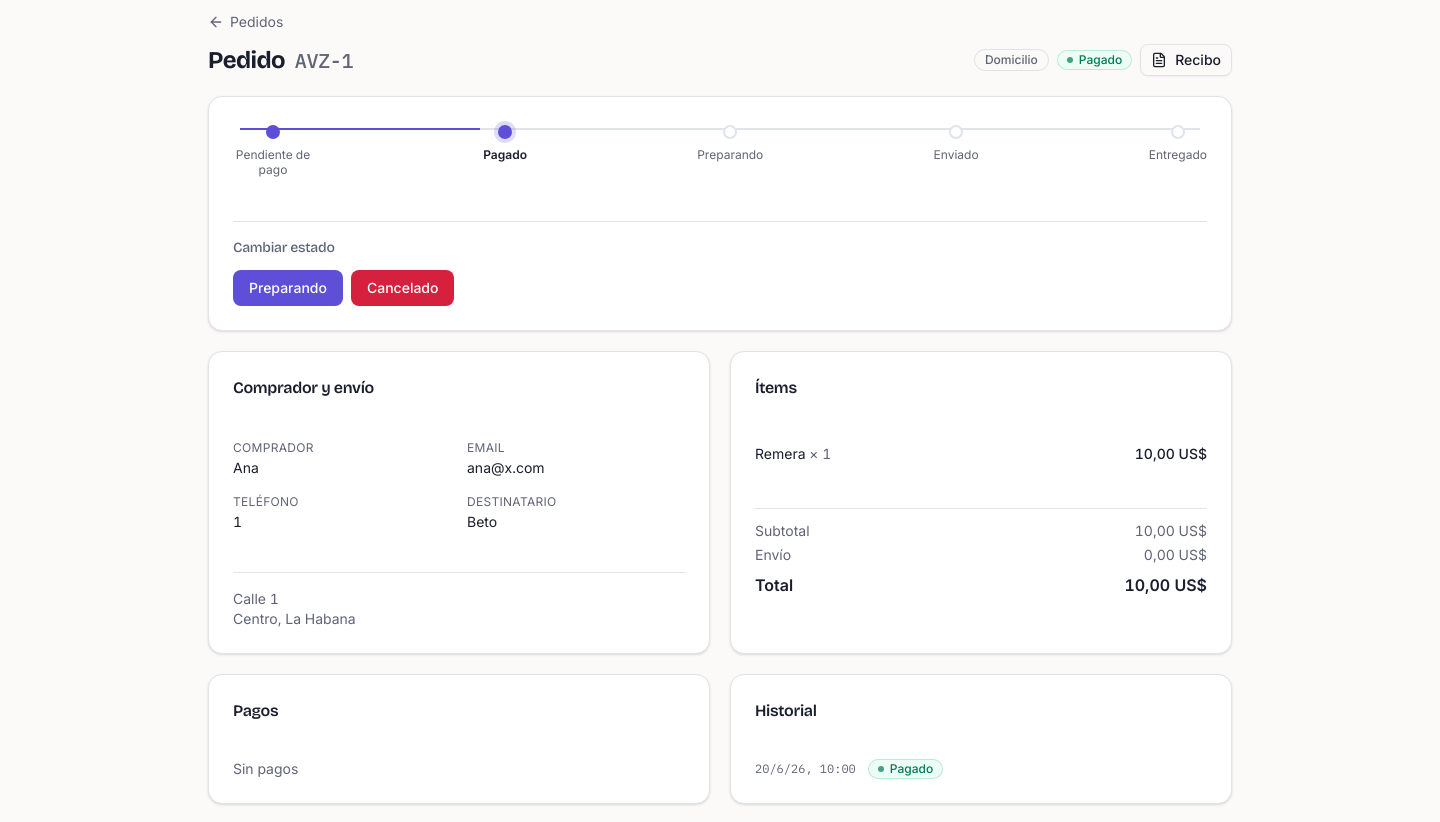
Test: OrderDetailPage › cambio de estado exitoso refleja el nuevo estado
What coordinates should you click on to do the following:
click the button "Preparando"
I would click on:
 (288, 288)
Its box is 233,270 -> 343,306.
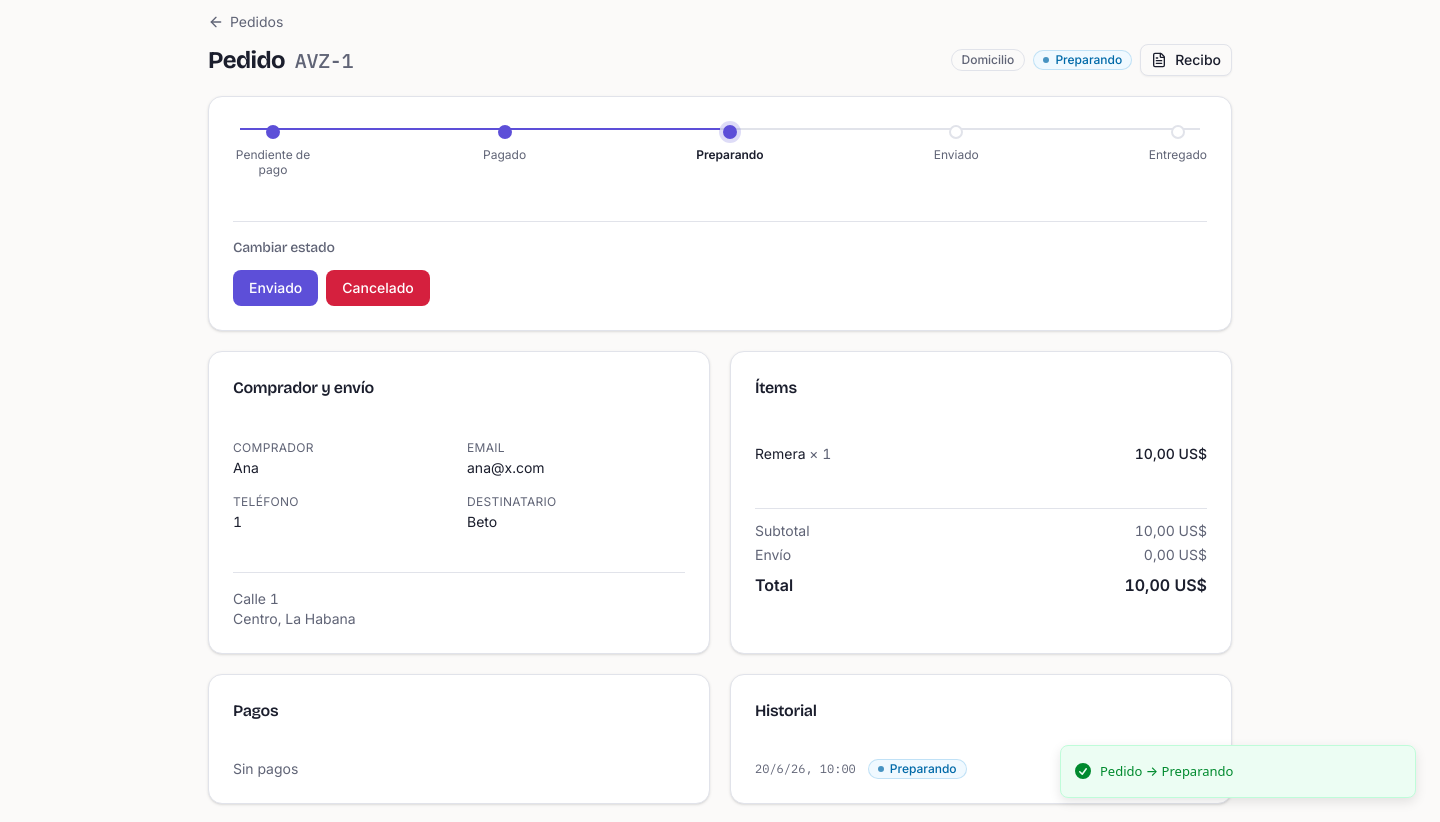
Expected: the button "Enviado" is shown, 233,270 -> 318,306
